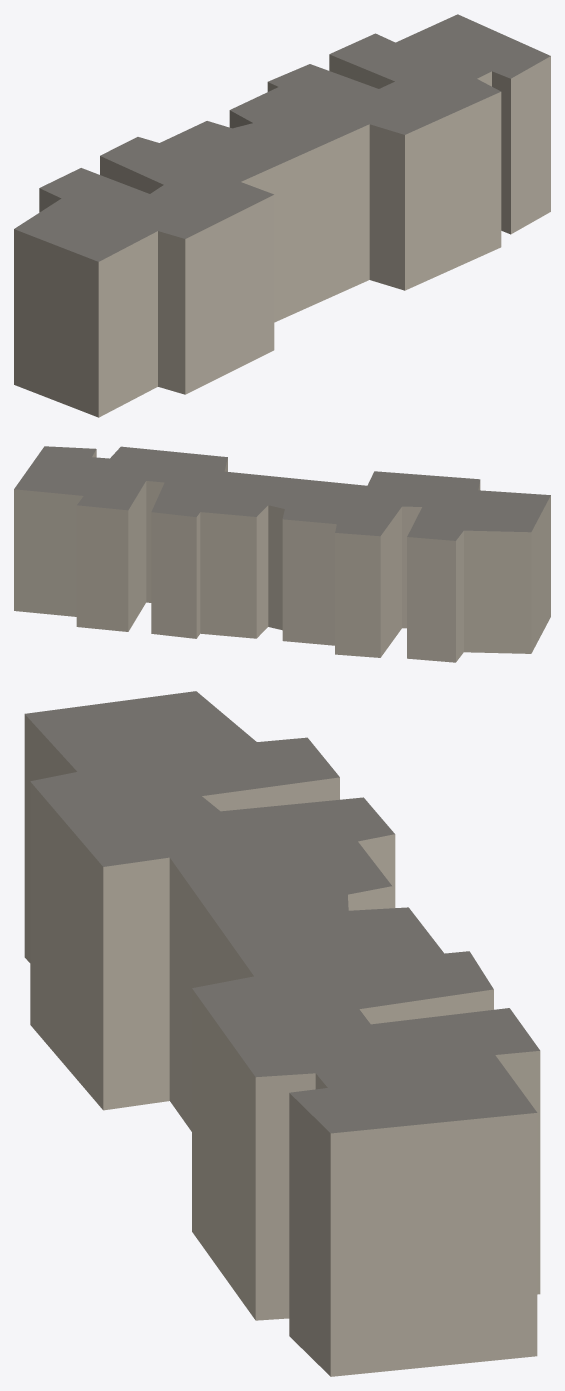
3 views of the same model, one above another, from view 1: azimuth 30°, elevation 25°; view 2: azimuth 150°, elevation 25°; view 3: azimuth 270°, elevation 25° (orthographic). The views are drawn at different scales.
Visible parts, largest first — view 1: HP-w1512965846; view 2: HP-w1512965846; view 3: HP-w1512965846.
Boxes of the visible parts, box(x1,y1,x2,y2) form: HP-w1512965846: box(14, 14, 550, 417); HP-w1512965846: box(14, 446, 550, 662); HP-w1512965846: box(24, 691, 540, 1376).
Bounding box in the file's own units: 70.15 × 18 × 34.57.
